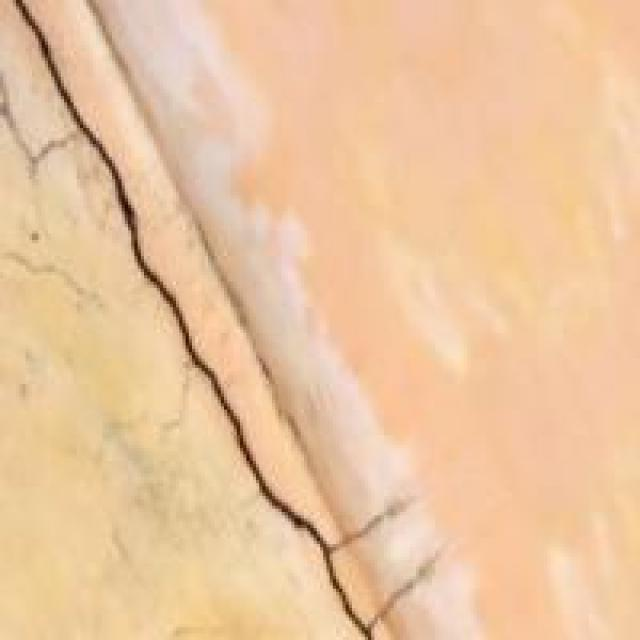crack: (0, 0, 365, 637)
